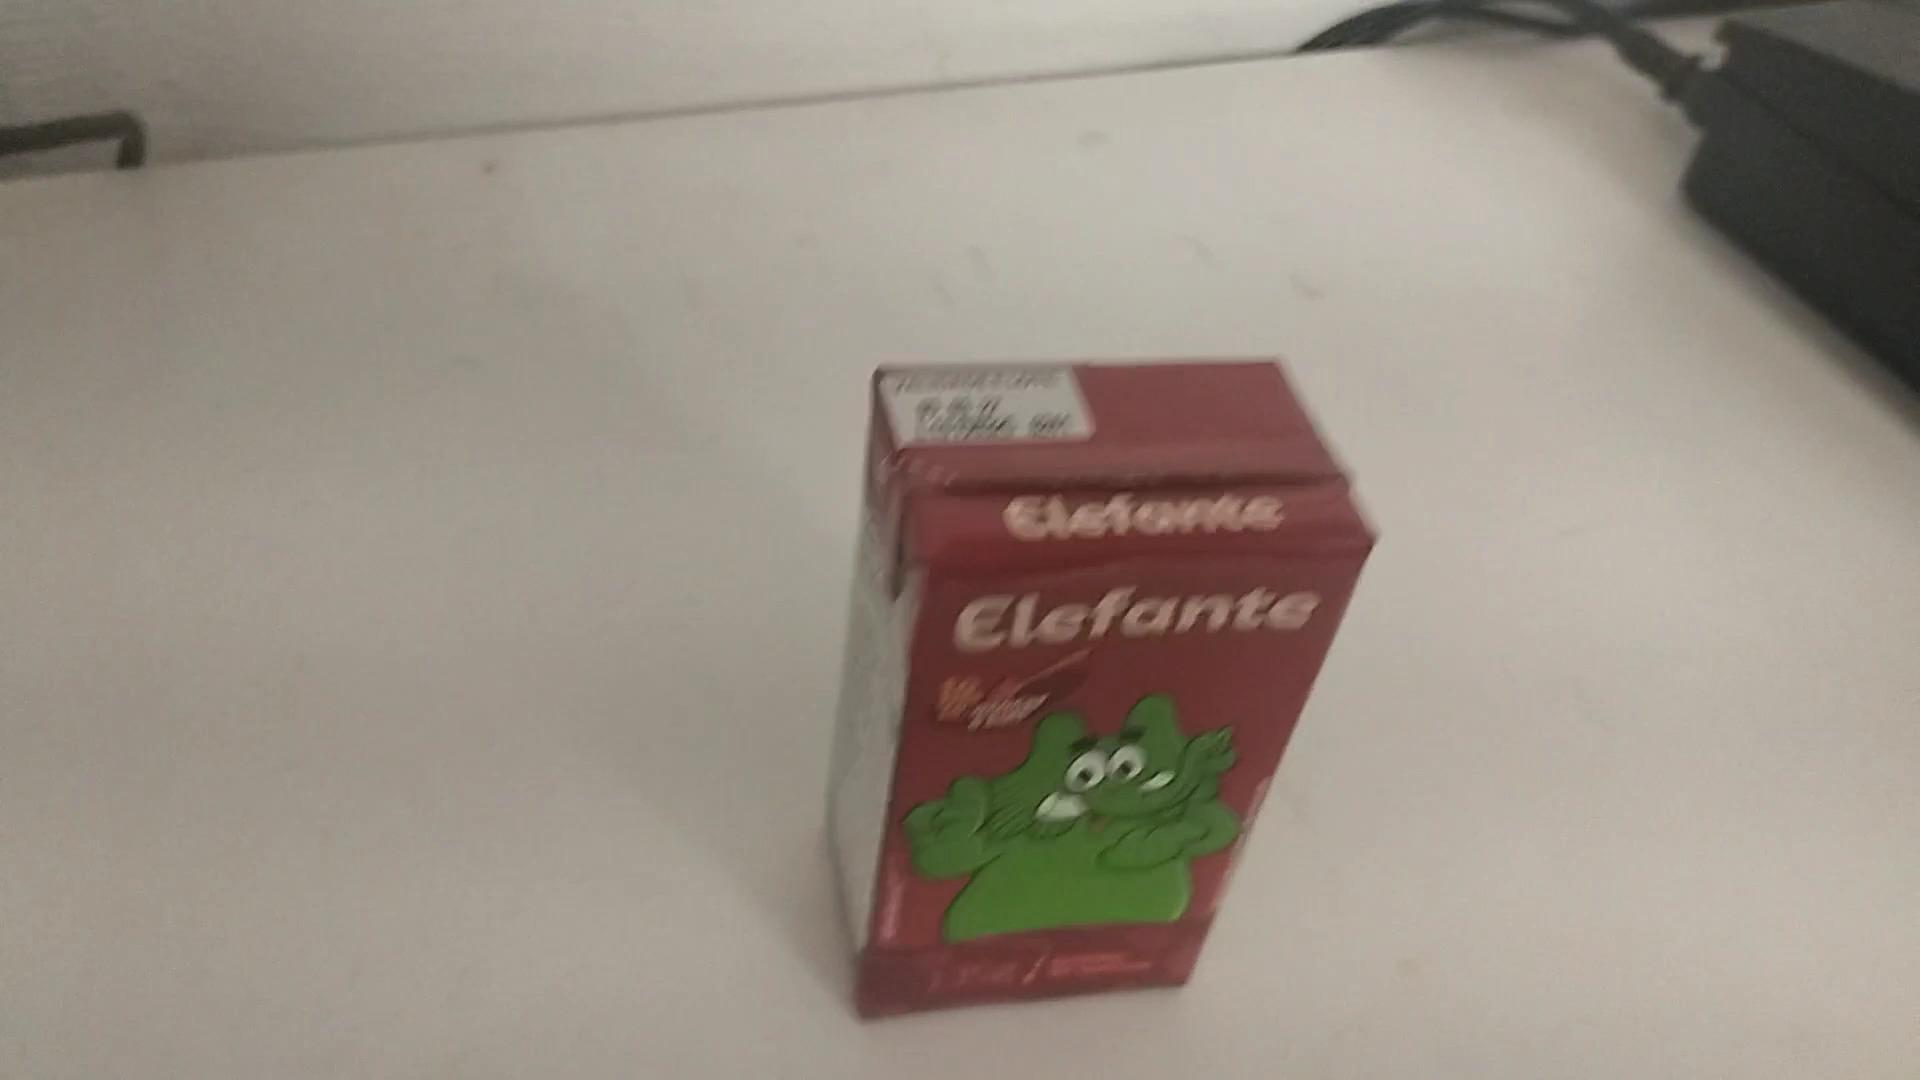tomate: (814, 336, 1395, 1019)
